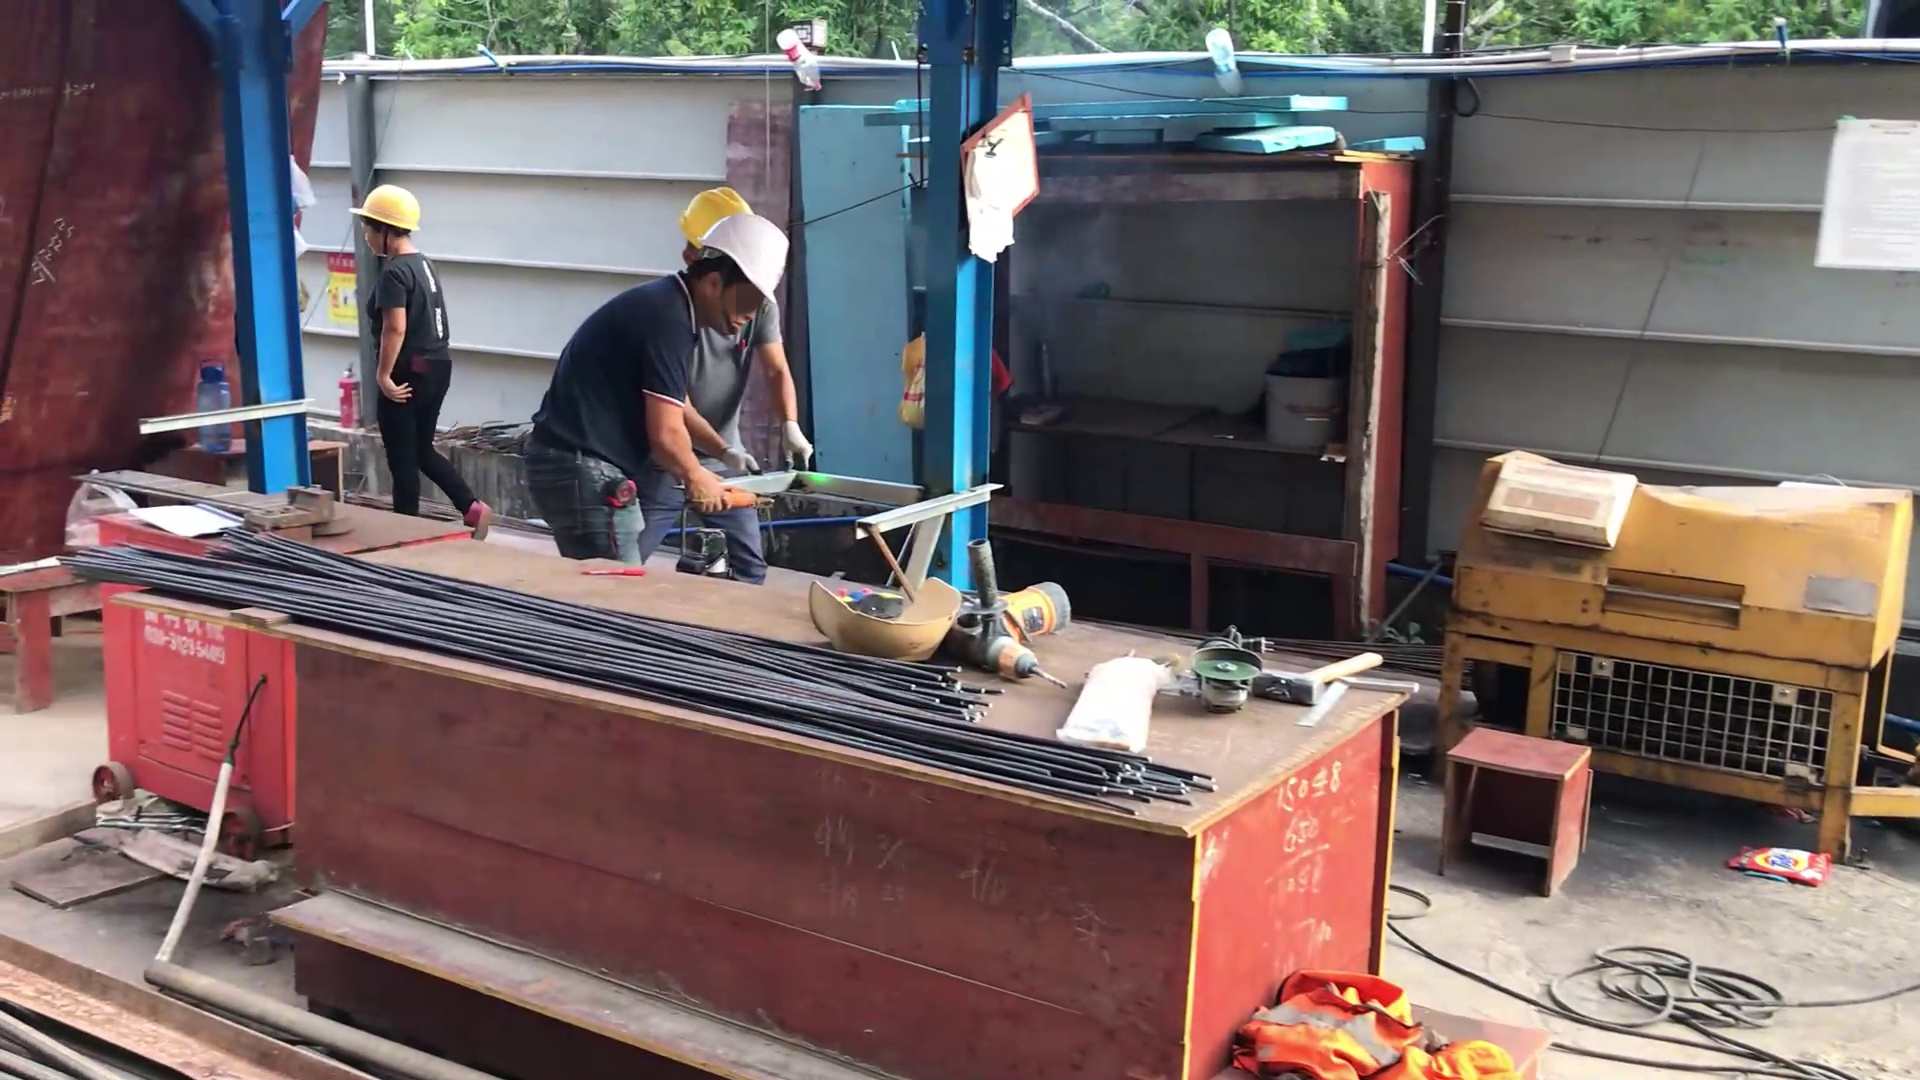helmet: (705, 202, 793, 307), (672, 181, 760, 252), (348, 181, 429, 243)
person: (503, 207, 796, 581), (674, 169, 829, 602), (336, 171, 507, 552)
